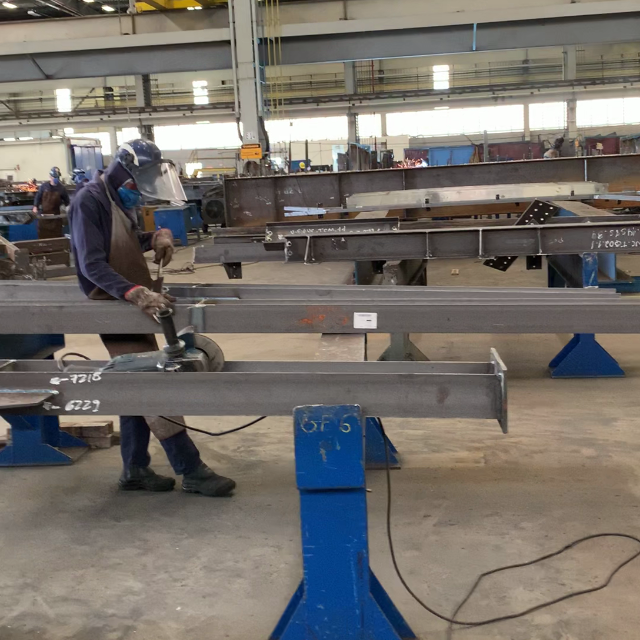face-shield: (133, 161, 190, 203)
glove: (120, 286, 178, 324), (150, 229, 171, 267)
helmet: (116, 139, 161, 166)
person: (67, 137, 188, 327)
safety-shoe: (180, 466, 238, 498), (120, 465, 178, 493)
